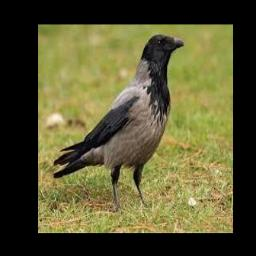Crow: (52, 33, 184, 208)
